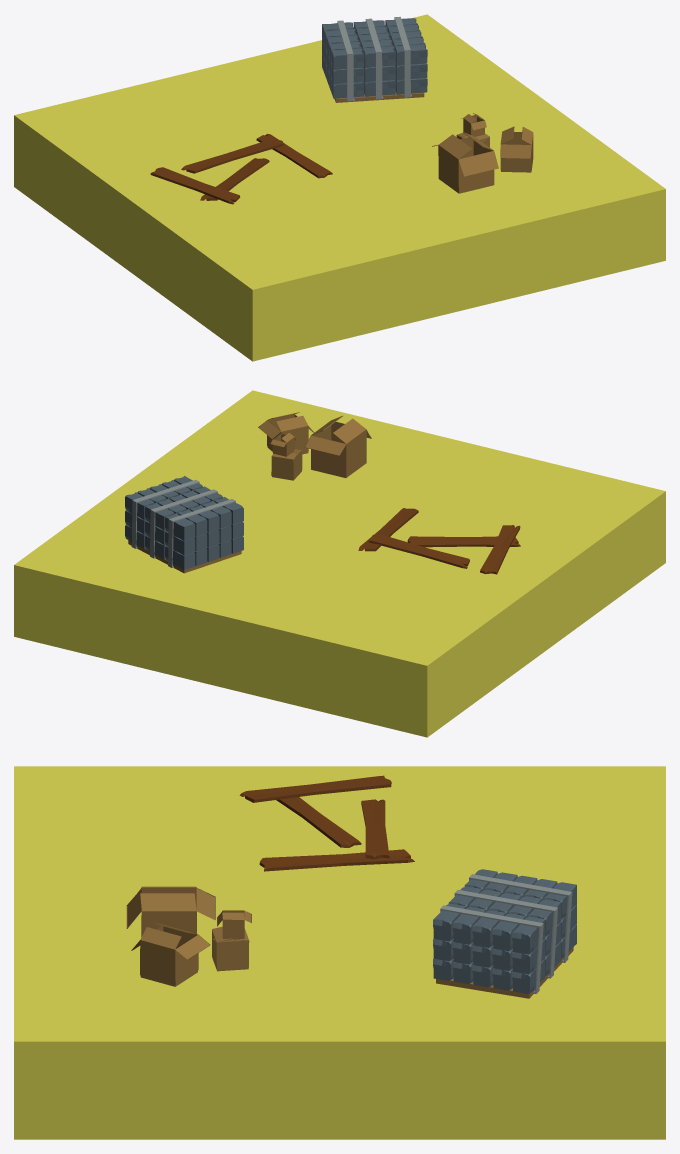
The model's file is towerplatform.fbx.
3 renders of one model, top to bottom at view 1: azimuth 30°, elevation 25°; view 2: azimuth 150°, elevation 25°; view 3: azimuth 270°, elevation 25°, orthographic. The views are drawn at different scales.
Visible parts, largest first — view 1: towertile, blocks, cardboard, blockholder, Plane.001, Plane.003, Plane.002, Plane.004; view 2: towertile, blocks, cardboard, blockholder, Plane.001, Plane.004, Plane.003, Plane.002; view 3: towertile, blocks, cardboard, blockholder, Plane.002, Plane.003, Plane.001, Plane.004, block holder.
Boxes of the visible parts, <box> form: towertile: <box>14,14,665,361</box>; blocks: <box>322,18,427,98</box>; cardboard: <box>432,113,533,193</box>; blockholder: <box>337,16,411,101</box>; Plane.001: <box>181,138,283,173</box>; Plane.003: <box>150,167,240,204</box>; Plane.002: <box>256,133,332,178</box>; Plane.004: <box>200,158,269,200</box>; towertile: <box>14,390,665,737</box>; blocks: <box>125,476,243,570</box>; cardboard: <box>258,412,371,480</box>; blockholder: <box>131,479,235,567</box>; Plane.001: <box>368,533,469,568</box>; Plane.004: <box>407,536,520,547</box>; Plane.003: <box>480,525,520,574</box>; Plane.002: <box>358,508,418,551</box>; towertile: <box>14,766,665,1139</box>; blocks: <box>433,869,576,993</box>; cardboard: <box>126,886,251,986</box>; blockholder: <box>440,874,572,993</box>; Plane.002: <box>259,849,414,871</box>; Plane.003: <box>239,775,391,802</box>; Plane.001: <box>361,799,389,859</box>; Plane.004: <box>276,797,361,847</box>; block holder: <box>436,947,573,998</box>.
Size of the model in its own units: 340 by 340 by 94.98.
